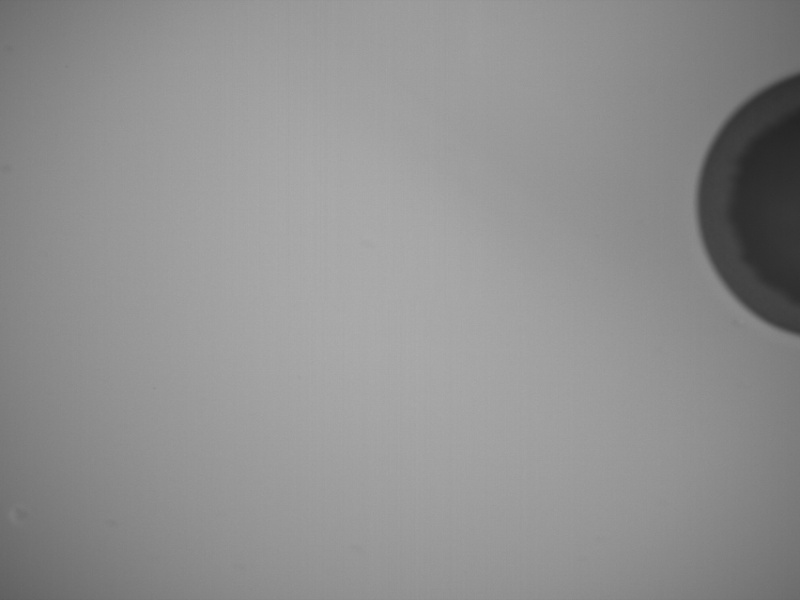bead: (698, 68, 800, 340)
